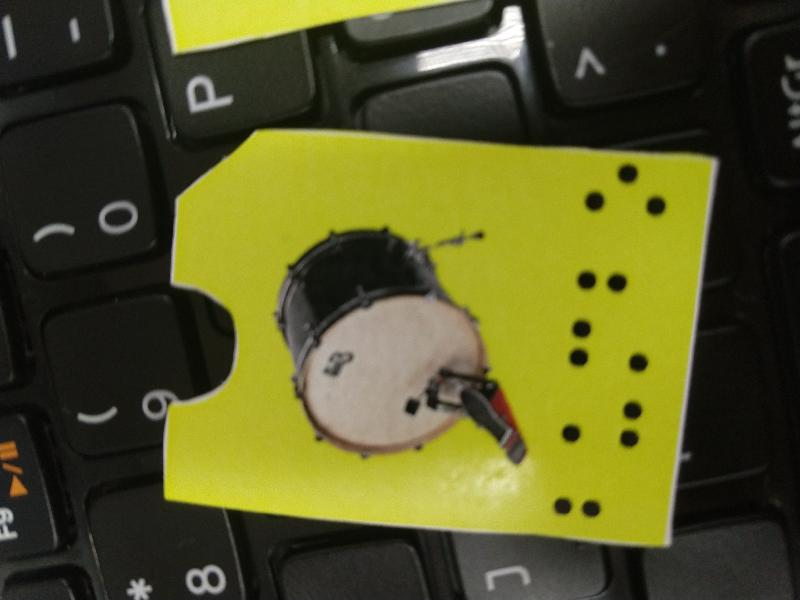bumbo: (151, 123, 718, 547)
